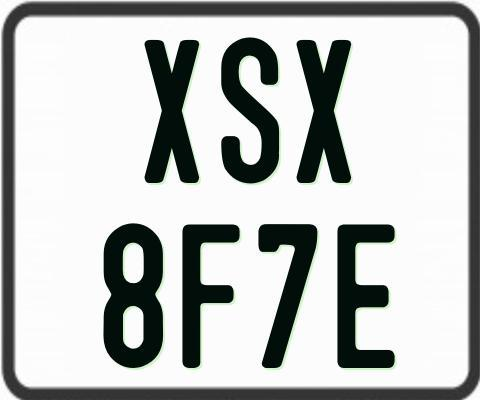7: (255, 221, 320, 371)
8: (103, 221, 164, 369)
E: (334, 223, 393, 370)
F: (182, 223, 243, 369)
S: (219, 37, 281, 186)
X: (294, 39, 353, 182), (142, 37, 196, 183)
